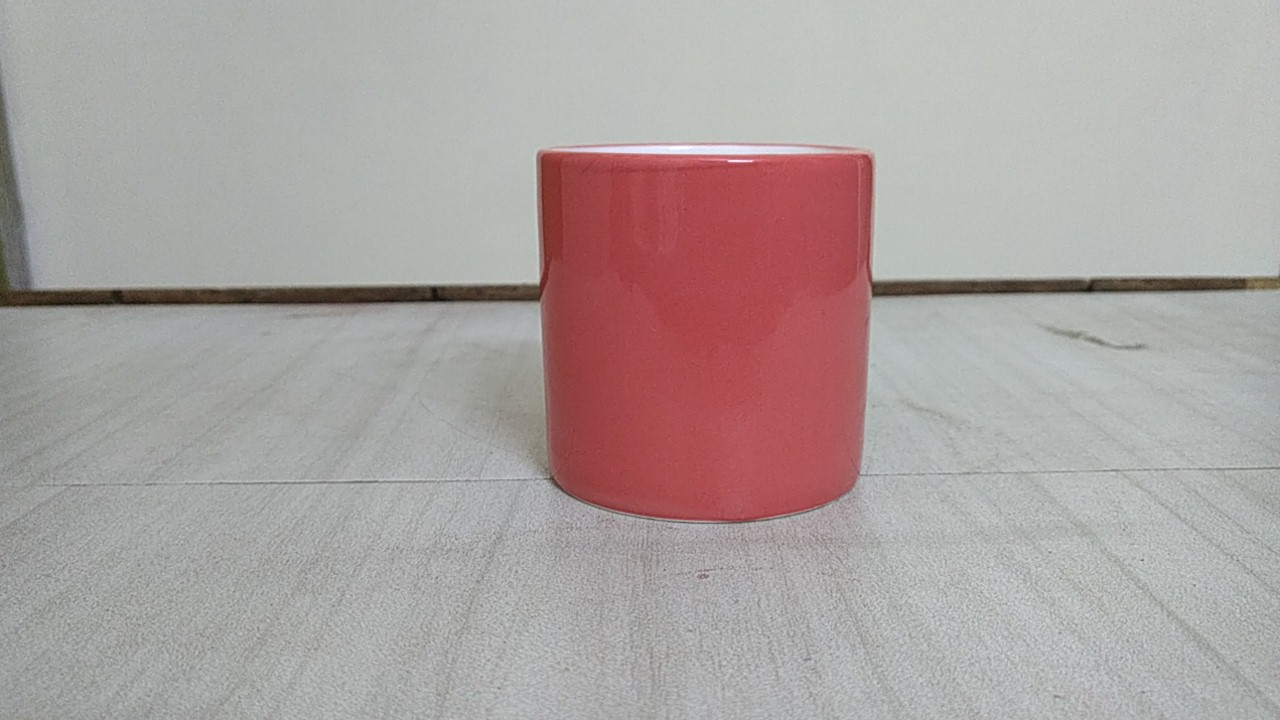cup: (531, 132, 895, 542)
